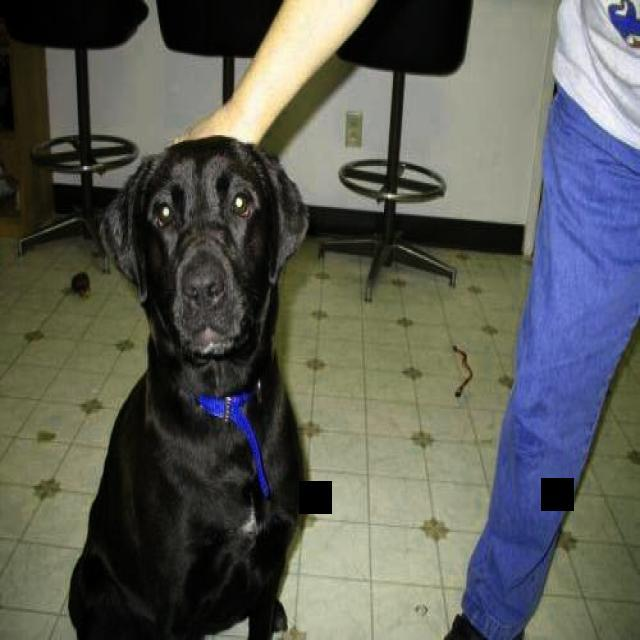adult_dog: (64, 134, 309, 640)
